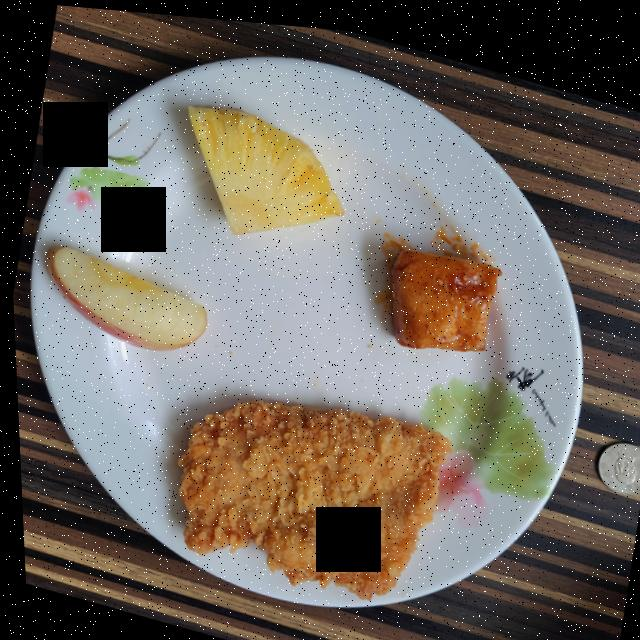apple -sliced-: (42, 246, 203, 348)
coin: (593, 431, 640, 483)
creamy tofu: (389, 243, 499, 343)
fried chicken cutlet: (173, 396, 447, 593)
pineapple: (186, 103, 341, 231)
